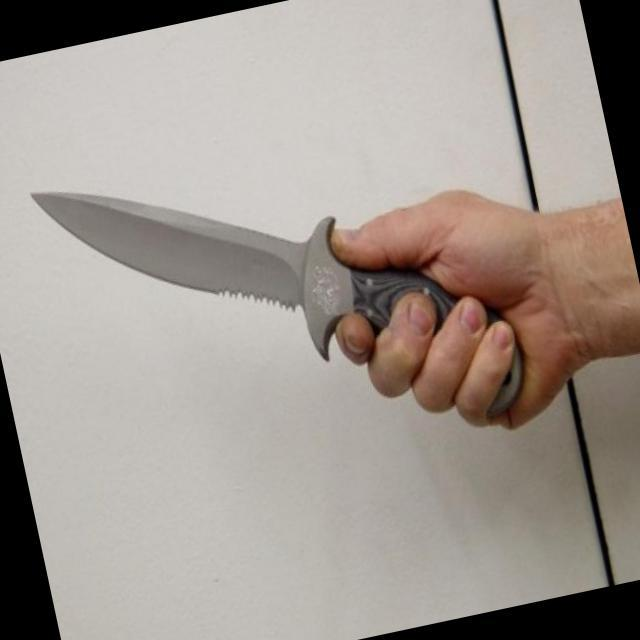Knife: (16, 94, 508, 508)
